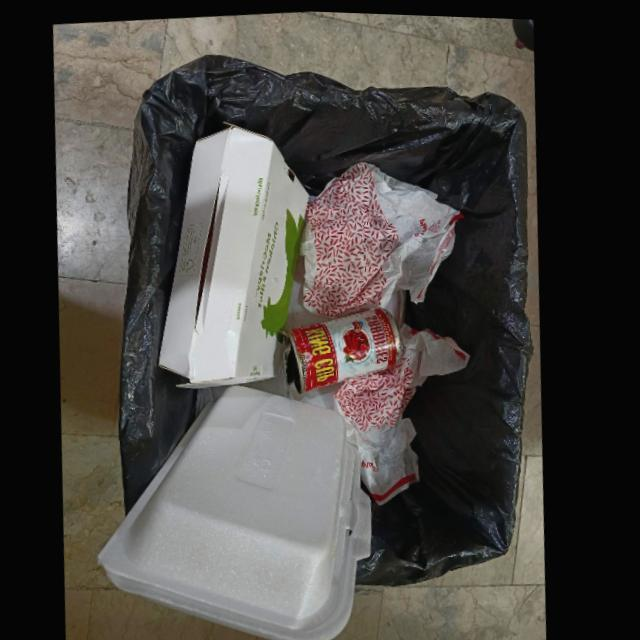metal: (288, 304, 402, 395)
paper: (161, 122, 311, 387), (302, 158, 466, 314), (338, 318, 474, 501)
styrofoam: (103, 382, 378, 640)
